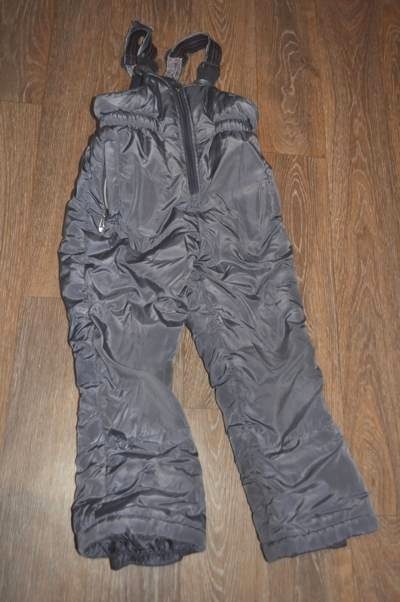Pants: (38, 58, 363, 568)
